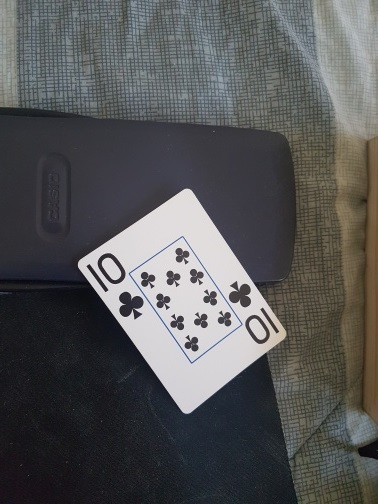ten: (79, 188, 284, 413)
